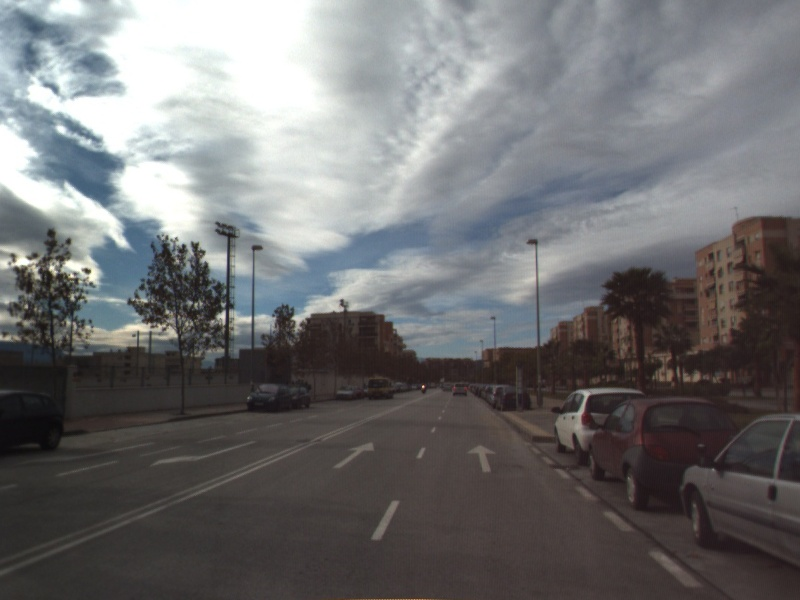STRAIGHT: (330, 440, 377, 470), (465, 443, 499, 474)
